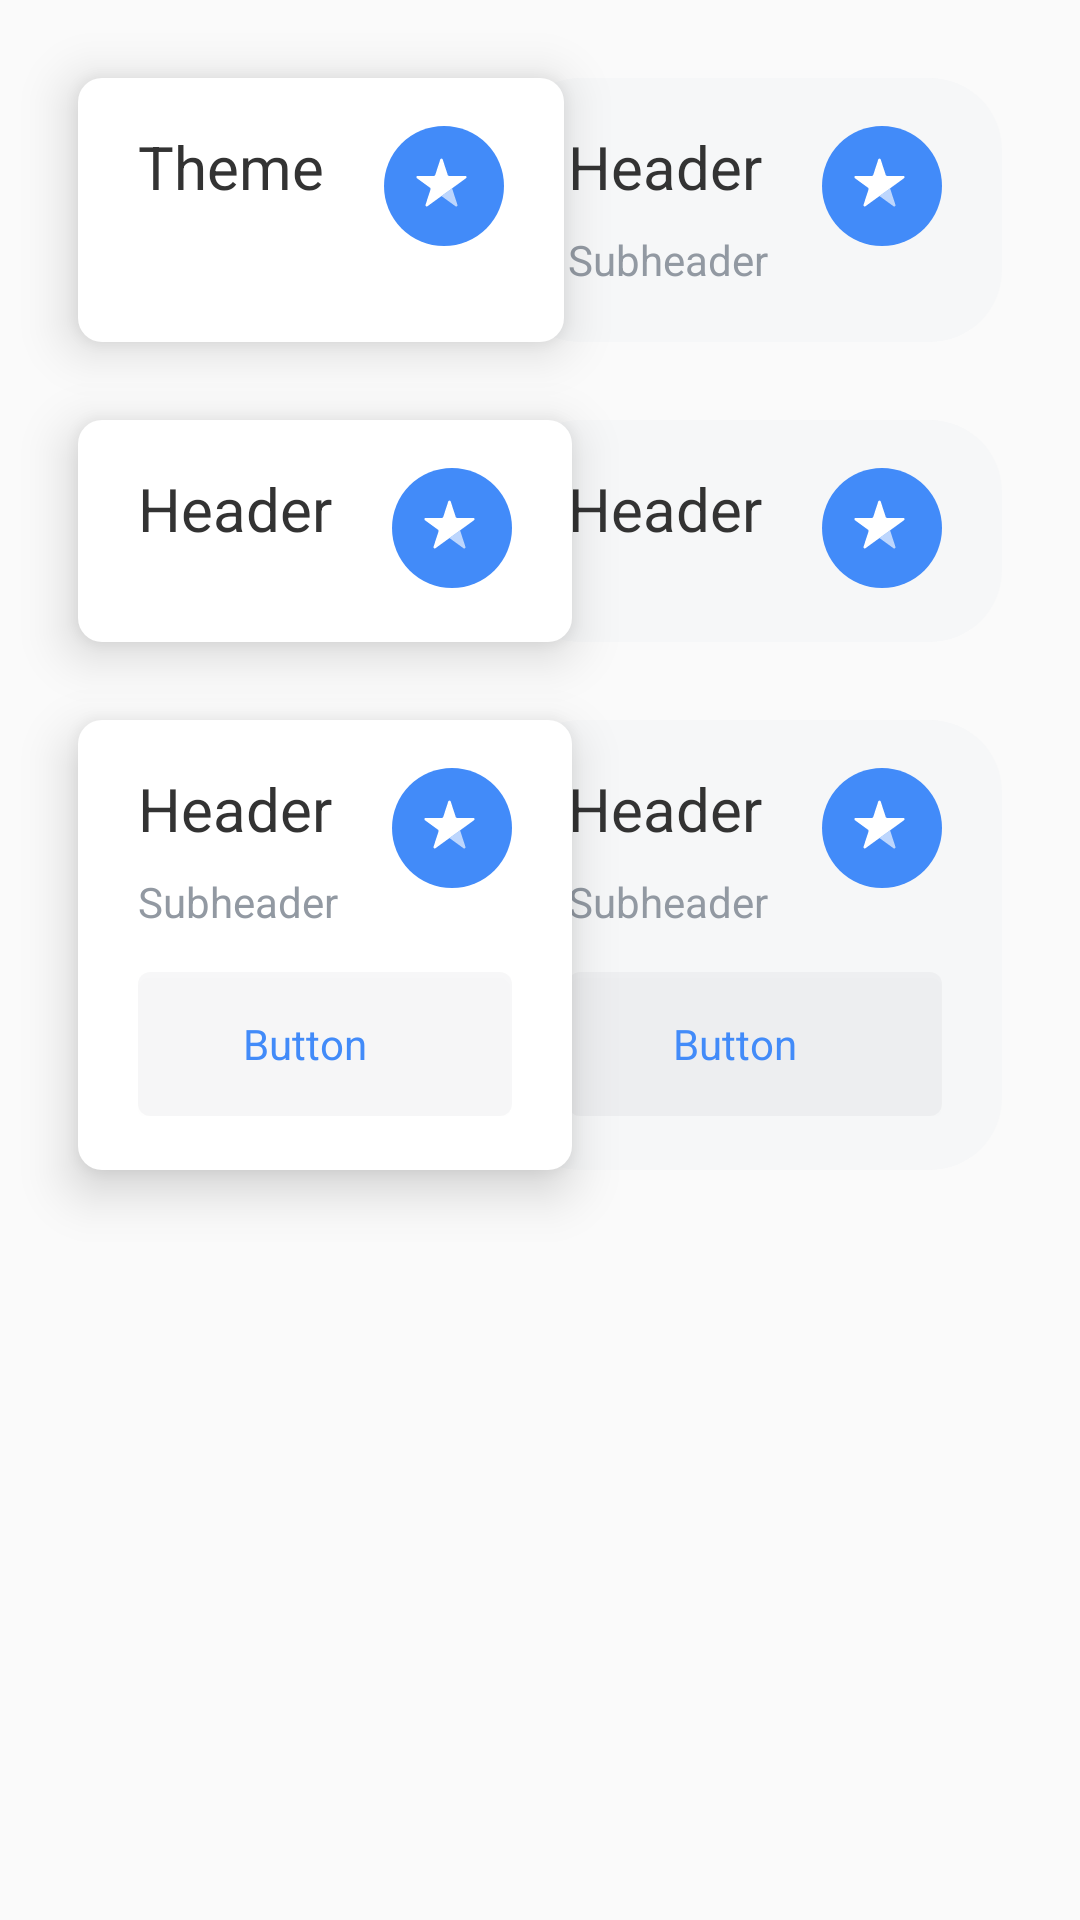

Screen size 1080 × 1920. Icon name, then its box in pixels as (x1, y1, x2, y2):
star: (384, 126, 504, 246), (822, 126, 942, 246), (392, 468, 512, 588), (822, 468, 942, 588), (392, 768, 512, 888), (822, 768, 942, 888)
